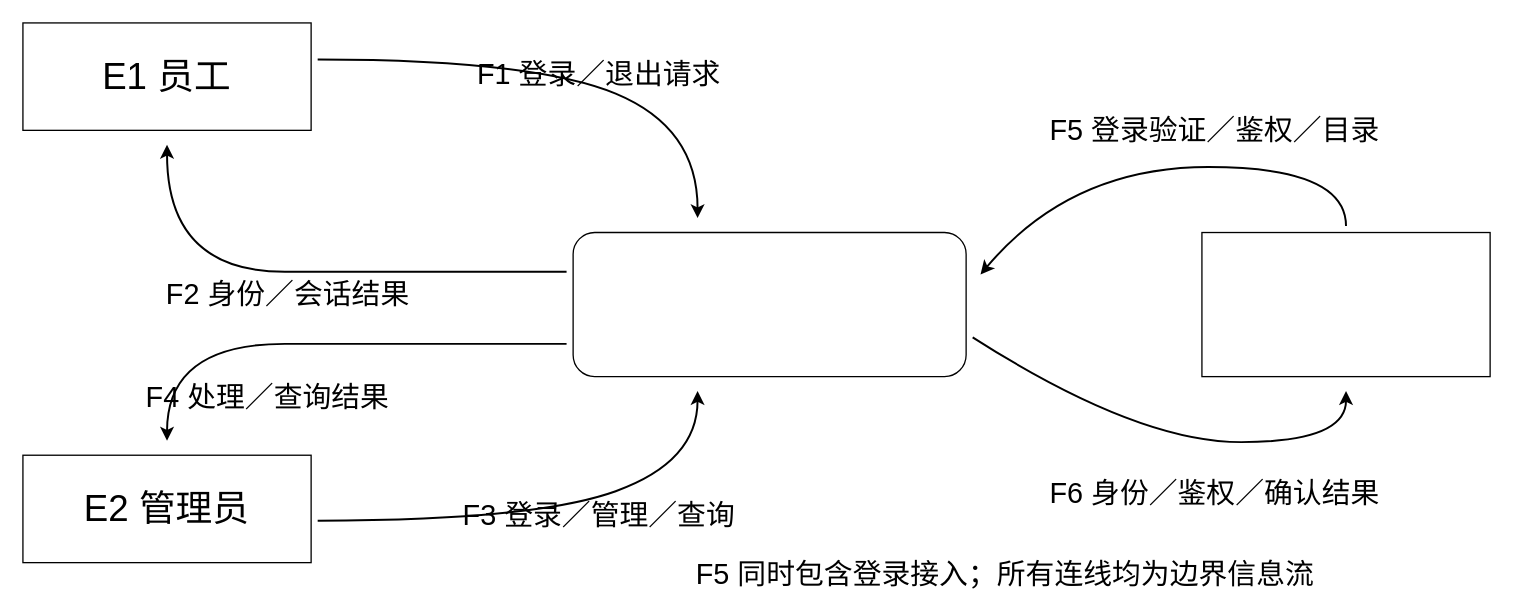
Image size: 1513x616. Some labels were removed from this diagram. Each missing label, with the centre of its shape:
E3 外部系统: point 1345,304
P0 统一权限管理系统: point 769,304
